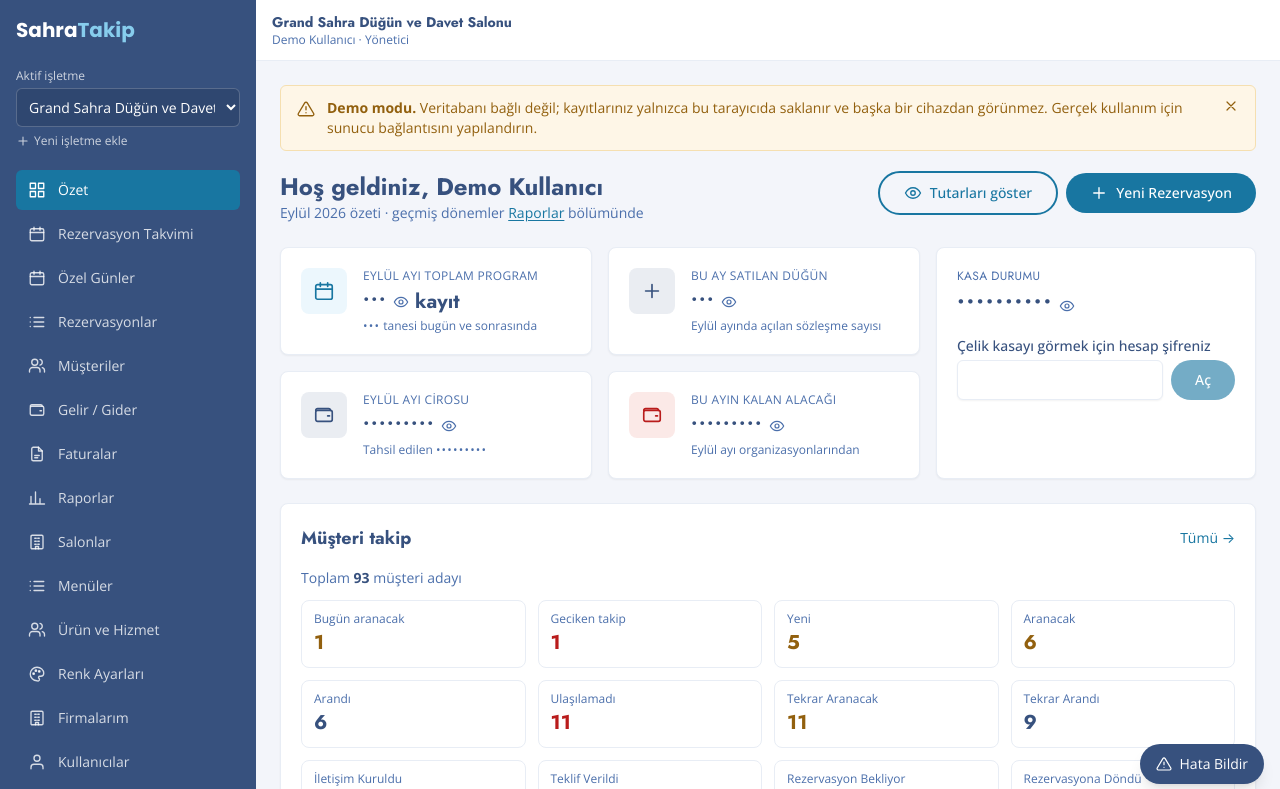
Test: Özet ekranı › üstteki düğme tutarları sürekli açık bırakıyor ve tercih saklanıyor
This screenshot has width=1280, height=789.
Expected: the heading "Hoş geldiniz, Demo Kullanıcı" is shown, [280,171,644,203]
Click the button "Tutarları göster". click: (968, 193)
box: [878,171,1058,215]
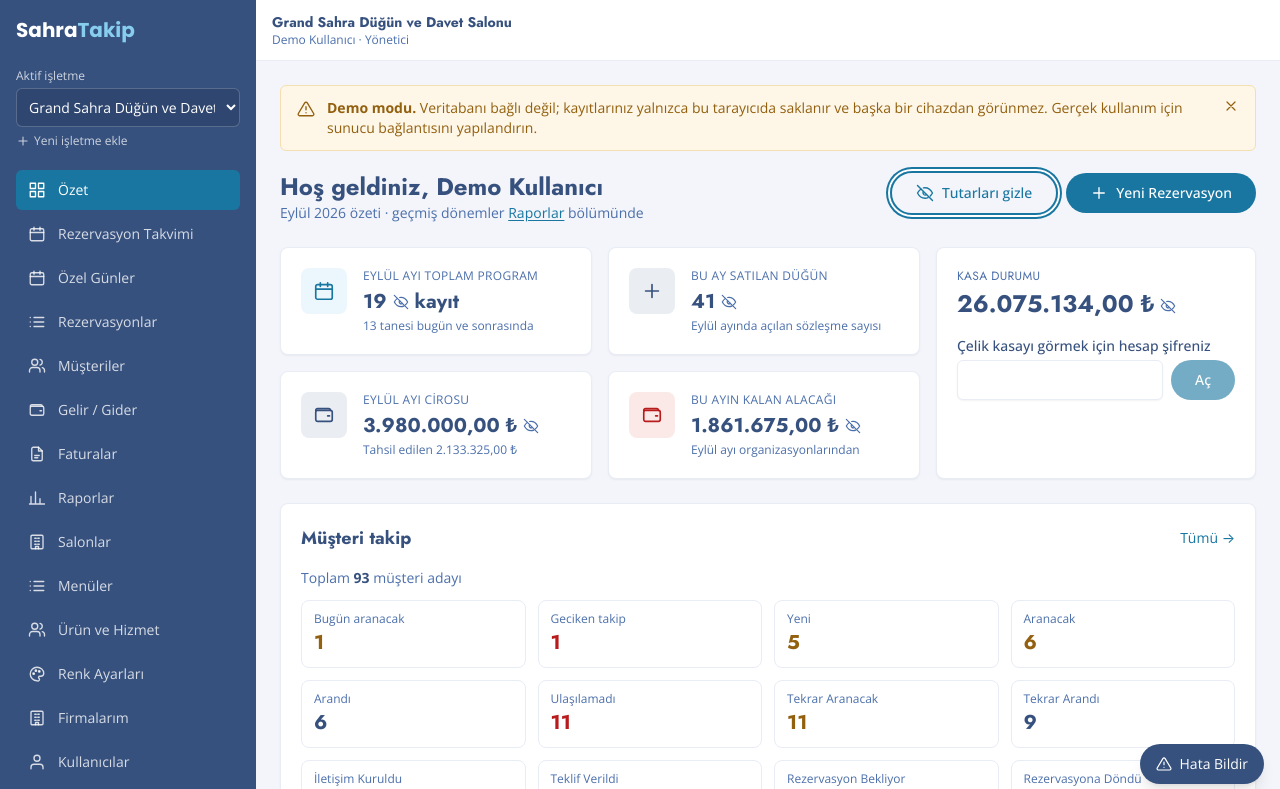
Expected: the button "Tutarları gizle" is shown, [890,171,1058,215]
